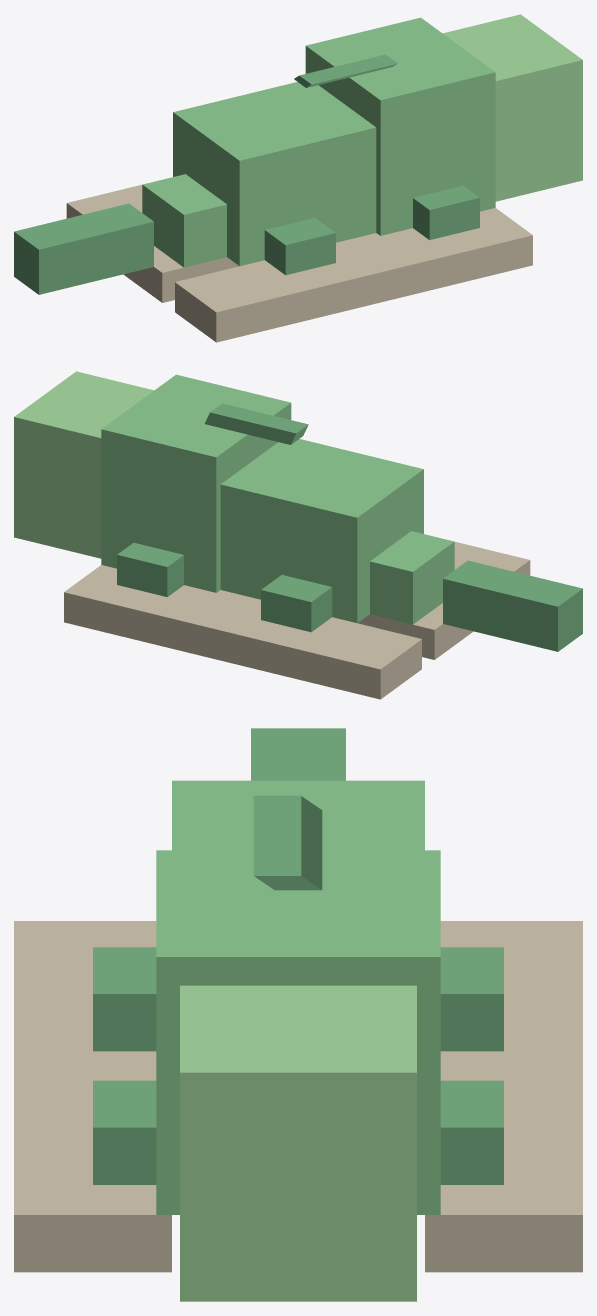
Rendered from hy4_lagarto_rojo_20261110.glb.
3 renders of one model, top to bottom at view 1: azimuth 30°, elevation 25°; view 2: azimuth 150°, elevation 25°; view 3: azimuth 270°, elevation 25°, orthographic. The views are drawn at different scales.
Parts seen in each view (by area): view 1: SM_Lagarto_Cuerpo_NOFUNDIR, SM_Lagarto_Rodela_NOFUNDIR, SM_Lagarto_Apendices_NOFUNDIR, SM_Lagarto_Cabeza_NOFUNDIR; view 2: SM_Lagarto_Cuerpo_NOFUNDIR, SM_Lagarto_Rodela_NOFUNDIR, SM_Lagarto_Apendices_NOFUNDIR, SM_Lagarto_Cabeza_NOFUNDIR; view 3: SM_Lagarto_Rodela_NOFUNDIR, SM_Lagarto_Cabeza_NOFUNDIR, SM_Lagarto_Cuerpo_NOFUNDIR, SM_Lagarto_Apendices_NOFUNDIR.
Part boxes in pixels (x1,y1,x2,y2): SM_Lagarto_Cuerpo_NOFUNDIR: (142,17,495,267); SM_Lagarto_Rodela_NOFUNDIR: (66,184,532,342); SM_Lagarto_Apendices_NOFUNDIR: (14,54,479,294); SM_Lagarto_Cabeza_NOFUNDIR: (443,14,582,201); SM_Lagarto_Cuerpo_NOFUNDIR: (101,374,454,624); SM_Lagarto_Rodela_NOFUNDIR: (64,541,530,699); SM_Lagarto_Apendices_NOFUNDIR: (117,403,582,651); SM_Lagarto_Cabeza_NOFUNDIR: (14,371,153,558); SM_Lagarto_Rodela_NOFUNDIR: (14,921,582,1272); SM_Lagarto_Cabeza_NOFUNDIR: (180,985,416,1301); SM_Lagarto_Cuerpo_NOFUNDIR: (156,780,440,1214); SM_Lagarto_Apendices_NOFUNDIR: (93,728,503,1184).
Size of the model in its own units: 0.73 by 0.23 by 0.36.
